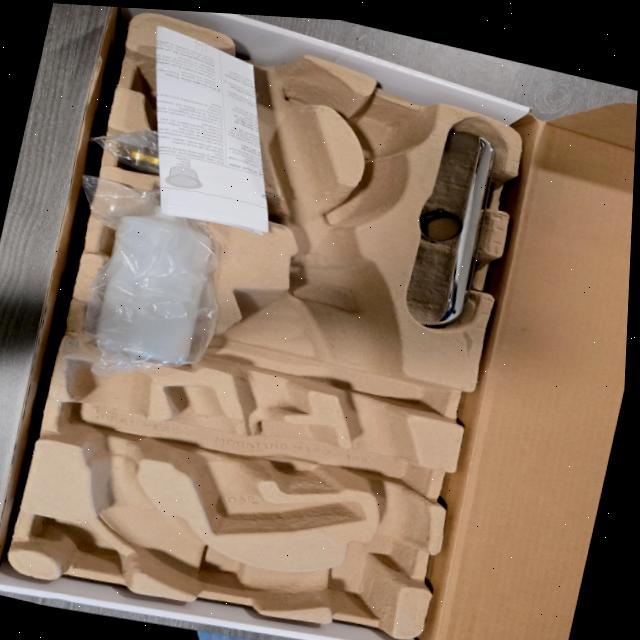1m: (72, 36, 423, 610)
2m: (164, 385, 361, 534)
3o: (92, 182, 211, 371)
4: (405, 130, 492, 329)
5m: (357, 99, 416, 155)
6o: (95, 126, 234, 200)
7m: (124, 53, 232, 120)
8: (152, 21, 270, 233)
